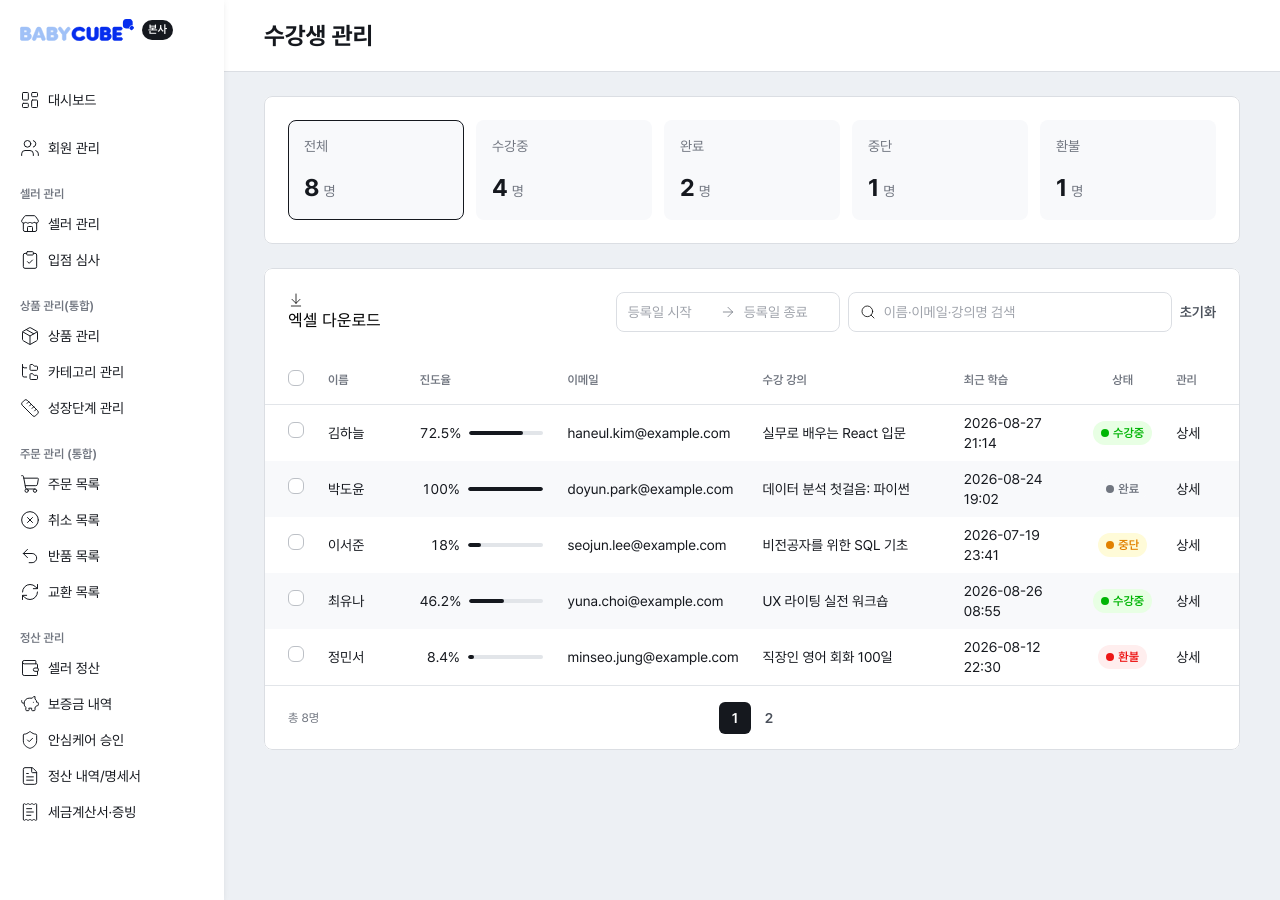
StudentListPage (수강생 관리) › 독려 메일 (F08) › 행을 고르면 일괄 작업 바가 떠오르고 개수를 알린다
What coordinates should you click on to do the following:
click the checkbox named "김하늘 선택"
I would click on:
 (296, 430)
Its box is [288,422,304,438].
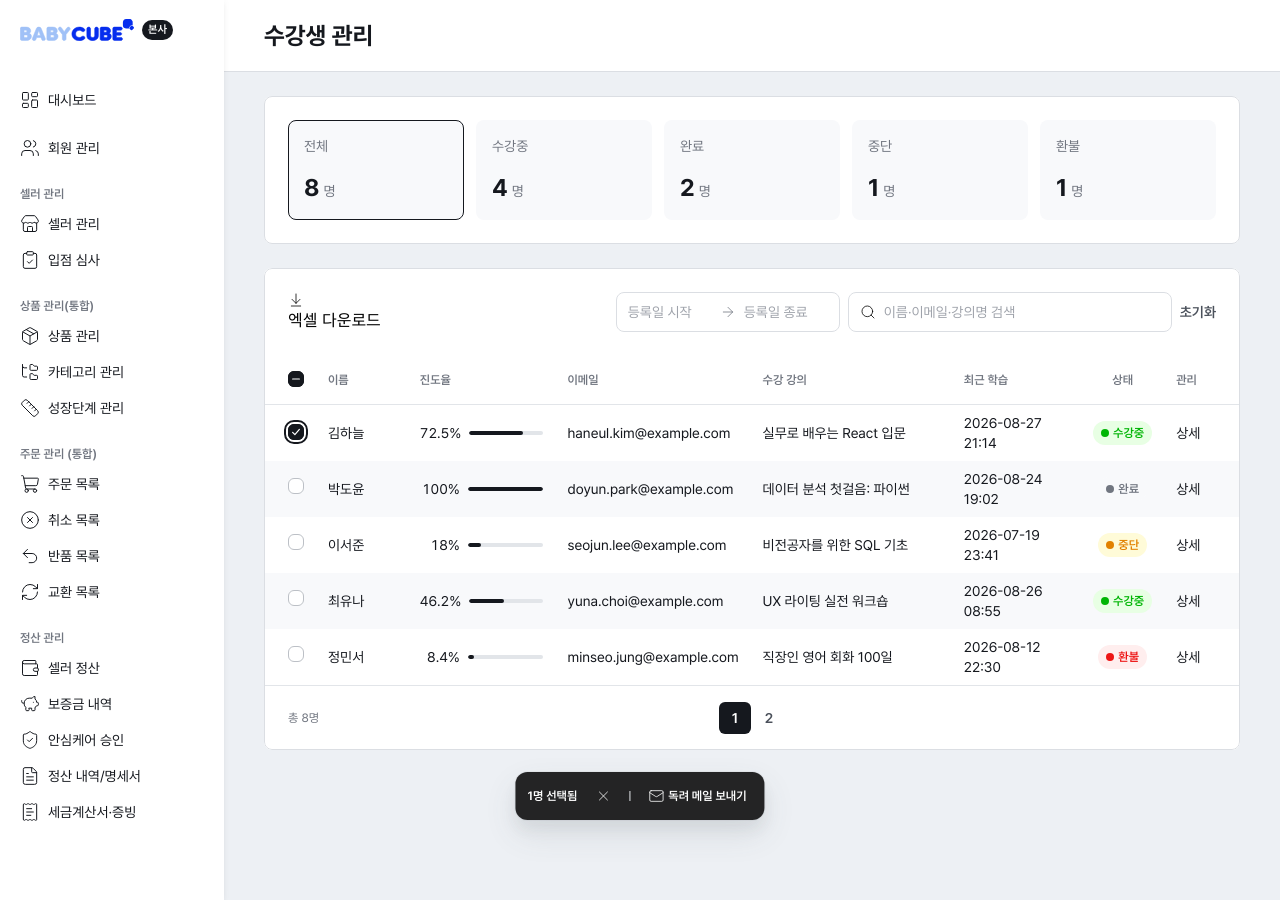
expect the message reads "1명 선택됨": met, box [527,789,577,803]
